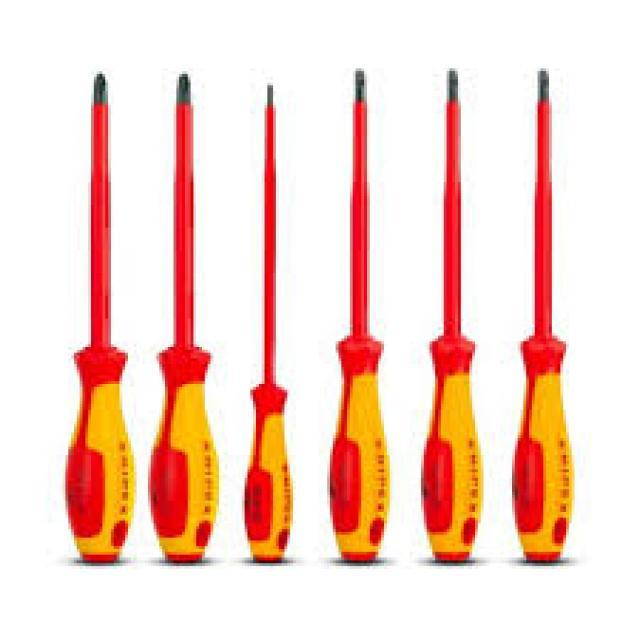screwdriver: (56, 68, 140, 569), (505, 58, 579, 570), (322, 61, 396, 570), (148, 68, 222, 572), (418, 60, 489, 569), (236, 75, 299, 570)
